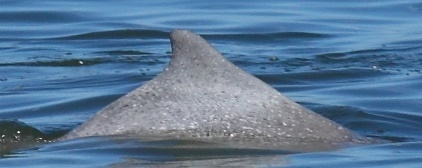fin: (38, 25, 395, 158)
